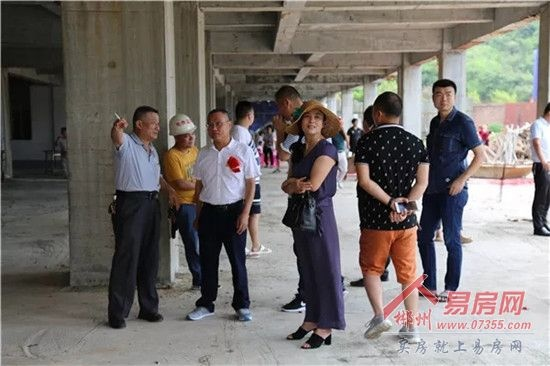none: (130, 103, 163, 144), (369, 90, 404, 127), (430, 75, 457, 116), (297, 103, 328, 138), (272, 82, 299, 117), (205, 107, 231, 143), (234, 97, 256, 126), (350, 116, 360, 128)
white: (167, 110, 197, 147)
